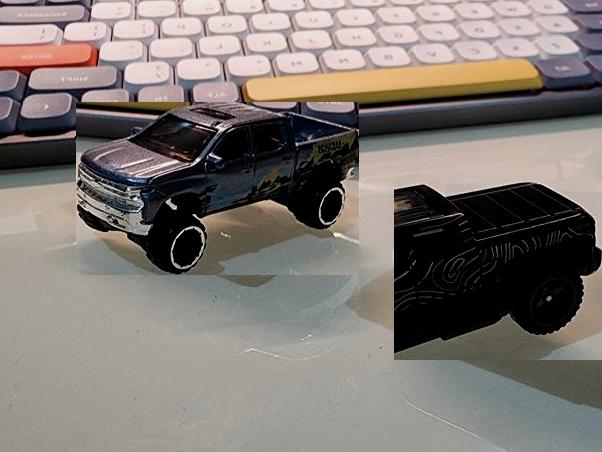toy-car: (76, 103, 359, 276), (394, 181, 602, 360)
